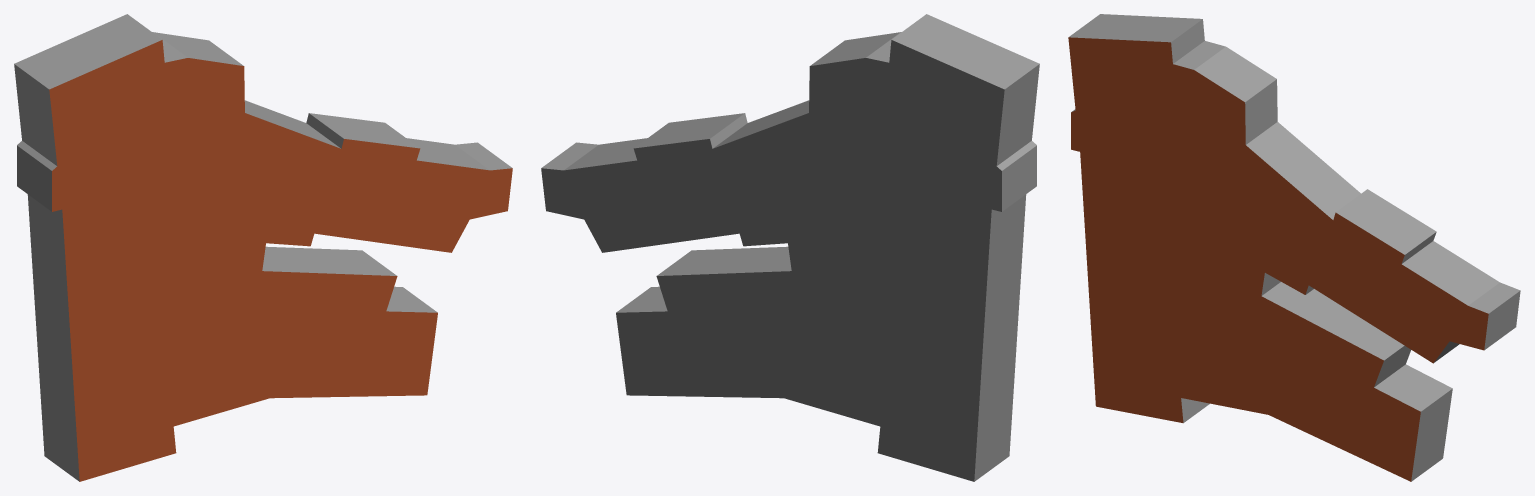
Rendered from construction_4936_assumed_A_Casa_h6m.obj.
3 views of the same model, side by side, from view 1: azimuth 30°, elevation 25°; view 2: azimuth 150°, elevation 25°; view 3: azimuth 330°, elevation 25° (orthographic). The views are drawn at different scales.
Parts seen in each view (by area): view 1: construction_4936_assumed_A_Casa; view 2: construction_4936_assumed_A_Casa; view 3: construction_4936_assumed_A_Casa.
Part boxes in pixels (box(x1,y1,x2,y2)): construction_4936_assumed_A_Casa: box(14, 14, 512, 481); construction_4936_assumed_A_Casa: box(541, 14, 1039, 481); construction_4936_assumed_A_Casa: box(1068, 14, 1520, 481).
Size of the model in its own units: 45.62 by 39.68 by 6.
